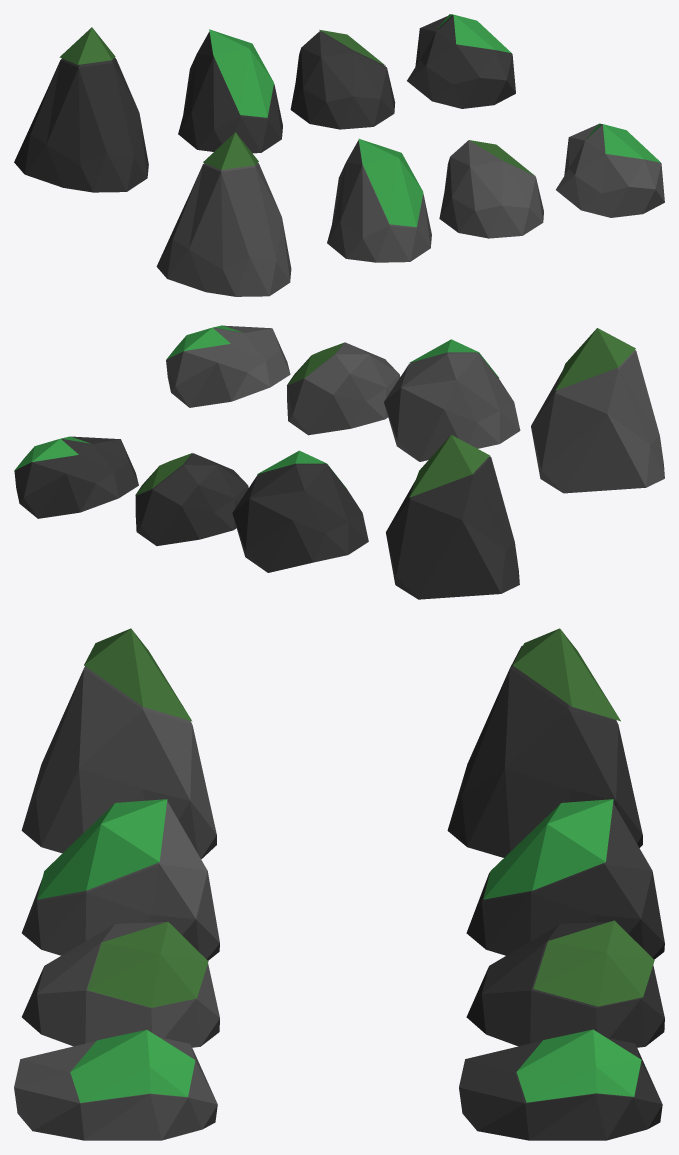
The model's file is RocksVerdes.fbx.
3 renders of one model, top to bottom at view 1: azimuth 30°, elevation 25°; view 2: azimuth 150°, elevation 25°; view 3: azimuth 270°, elevation 25°, orthographic. The views are drawn at different scales.
Parts seen in each view (by area): view 1: Pedra.017, Pedra.016, Pedra.011, Icosphere.009, Pedra.013, Pedra.010, Pedra.015, Pedra.012; view 2: Pedra.016, Pedra.017, Icosphere.009, Pedra.011, Pedra.015, Pedra.012, Pedra.013, Pedra.010; view 3: Pedra.017, Pedra.016, Pedra.011, Icosphere.009, Pedra.013, Pedra.010, Pedra.015, Pedra.012.
Boxes of the visible parts, x1,y1,x2,y2 form: Pedra.017: (14,27,148,192); Pedra.016: (156,132,291,296); Pedra.011: (327,139,431,262); Icosphere.009: (178,29,282,153); Pedra.013: (290,29,395,129); Pedra.010: (439,140,543,238); Pedra.015: (407,14,515,108); Pedra.012: (556,123,664,217); Pedra.016: (531,328,664,493); Pedra.017: (386,435,519,599); Icosphere.009: (232,450,368,572); Pedra.011: (384,339,520,461); Pedra.015: (14,436,138,518); Pedra.012: (166,325,290,407); Pedra.013: (135,453,248,545); Pedra.010: (287,342,400,435); Pedra.017: (447,628,642,857); Pedra.016: (21,628,216,859); Pedra.011: (22,799,219,960); Icosphere.009: (466,799,664,959); Pedra.013: (466,920,664,1047); Pedra.010: (22,922,219,1047); Pedra.015: (459,1029,662,1140); Pedra.012: (14,1029,217,1140).
Bounding box in the file's own units: 1066 × 317 × 839.
